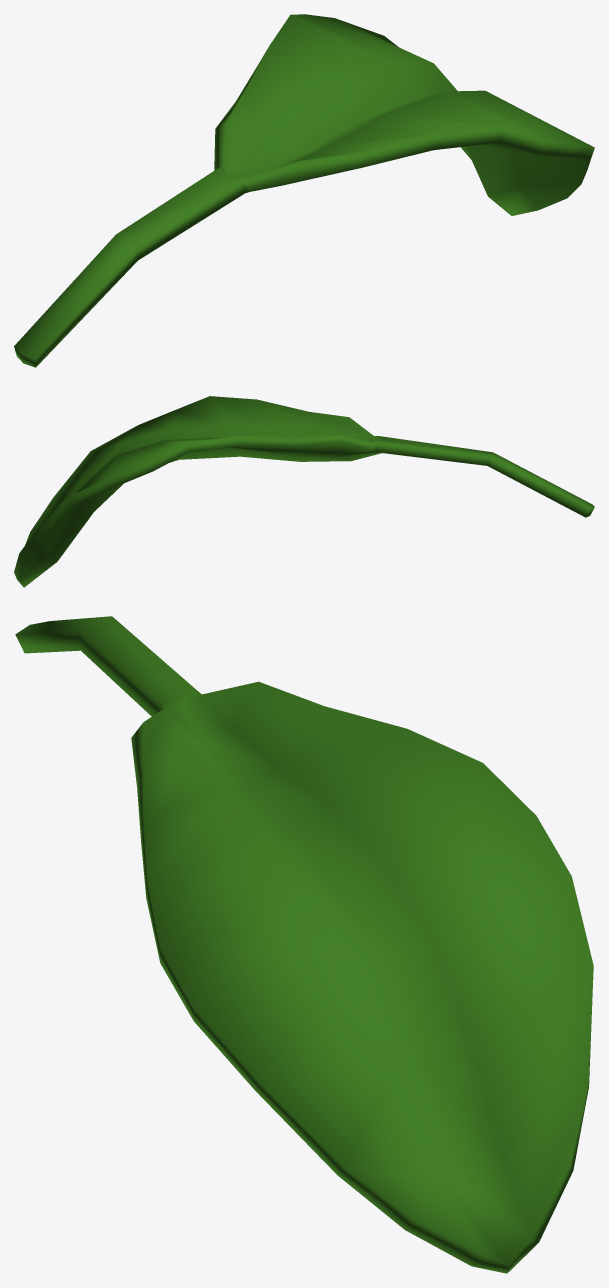
Rendered from Leaf_2.fbx.
The picture shows the model from 3 angles, top to bottom: view 1: azimuth 30°, elevation 25°; view 2: azimuth 150°, elevation 25°; view 3: azimuth 270°, elevation 25°; orthographic projection. The views are drawn at different scales.
Parts seen in each view (by area): view 1: Leaf.022; view 2: Leaf.022; view 3: Leaf.022.
Part boxes in pixels (x1,y1,x2,y2): Leaf.022: (14, 14, 594, 367); Leaf.022: (14, 396, 594, 587); Leaf.022: (15, 616, 593, 1273).
Size of the model in its own units: 25.36 by 9.3 by 13.55.
